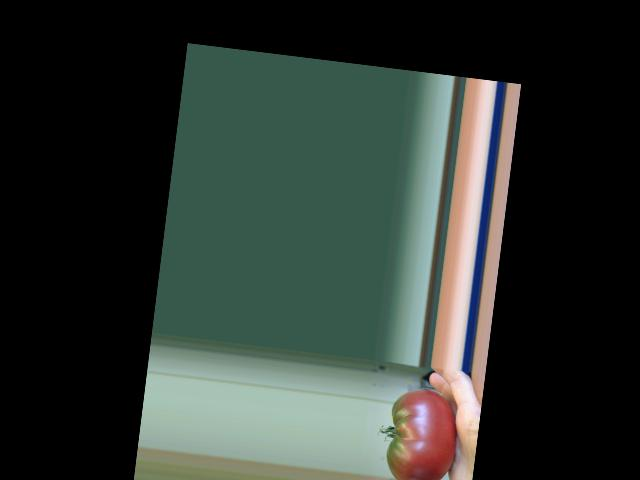tomato: (382, 385, 462, 480)
